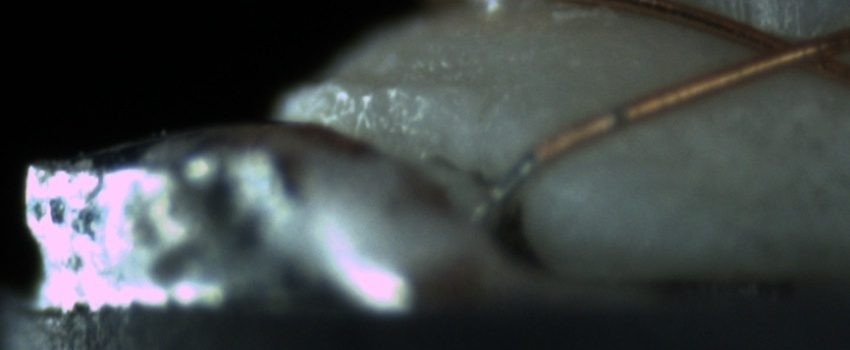CL: (741, 17, 844, 81)
TS: (490, 151, 542, 205)
TTCW: (489, 131, 569, 205)
